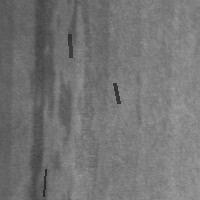inclusion: (28, 1, 73, 198), (132, 70, 147, 130), (112, 81, 120, 105), (41, 167, 47, 198), (67, 32, 72, 59)
